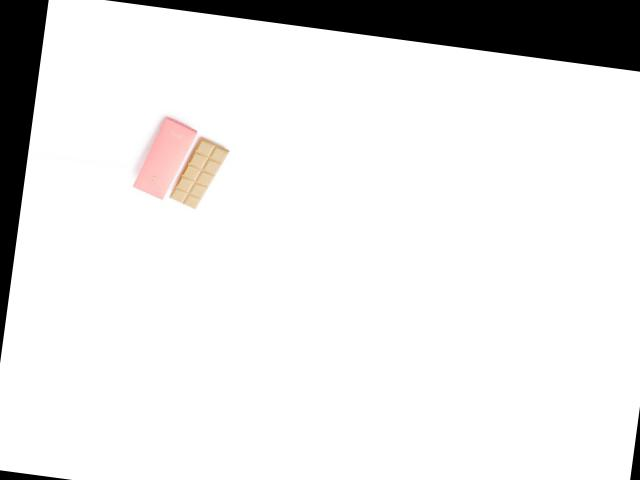chocolate: (164, 129, 231, 213)
